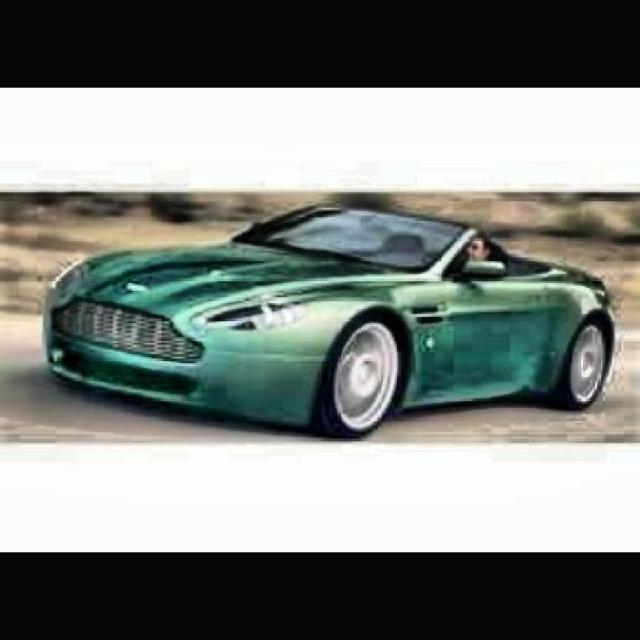green: (40, 203, 614, 434)
